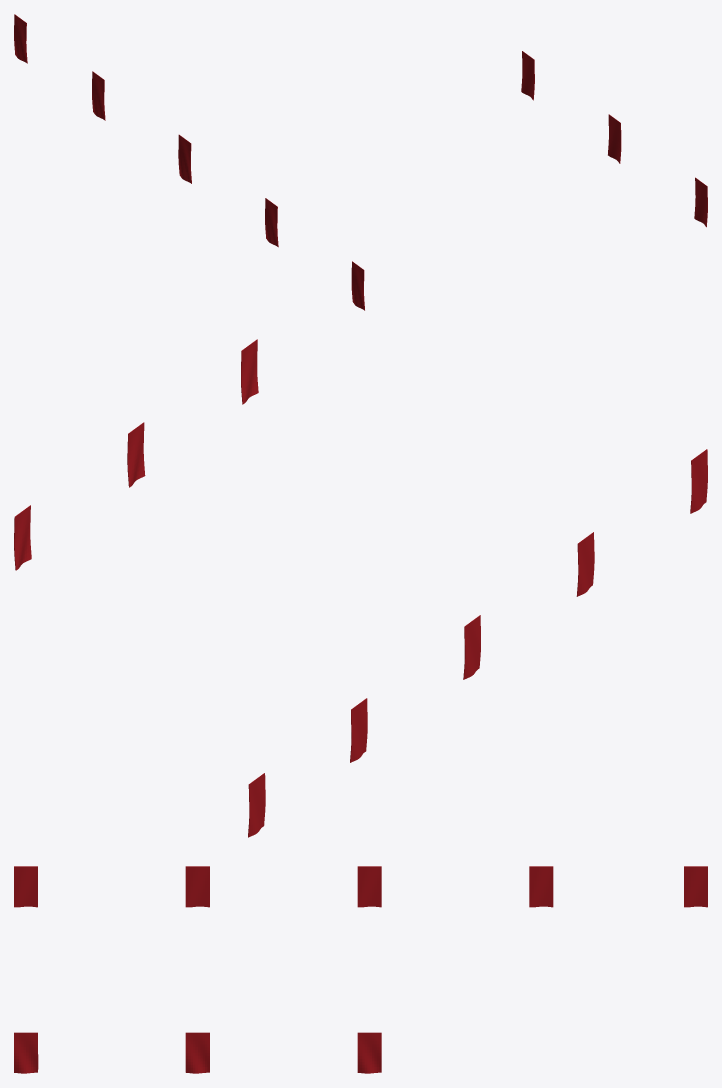
File: Banners.fbx
3 views of the same model, one above another, from view 1: azimuth 30°, elevation 25°; view 2: azimuth 150°, elevation 25°; view 3: azimuth 270°, elevation 25° (orthographic). The views are drawn at different scales.
Visible parts, largest first — view 1: Banner-1_20.001; view 2: Banner-1_20.001; view 3: Banner-1_20.001.
Boxes of the visible parts, <box> form: Banner-1_20.001: <box>14,14,707,310</box>; Banner-1_20.001: <box>14,339,707,837</box>; Banner-1_20.001: <box>14,866,707,1073</box>.
Size of the model in its own units: 11520 by 1301 by 20203.
